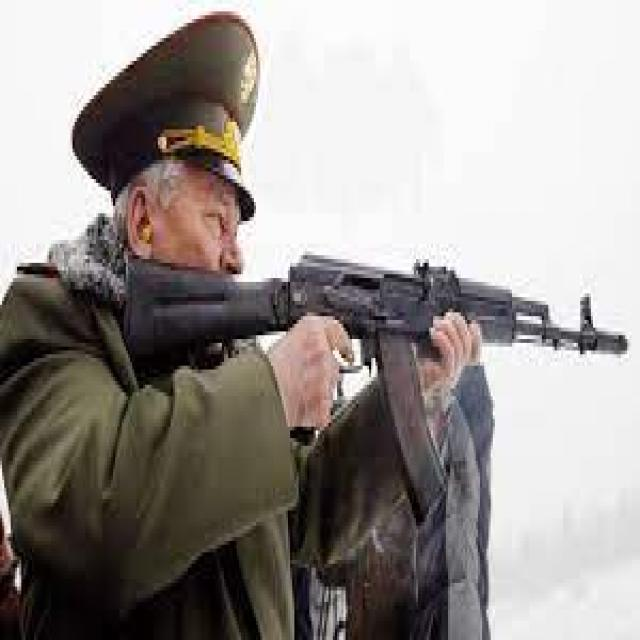weapon: (124, 252, 630, 530)
